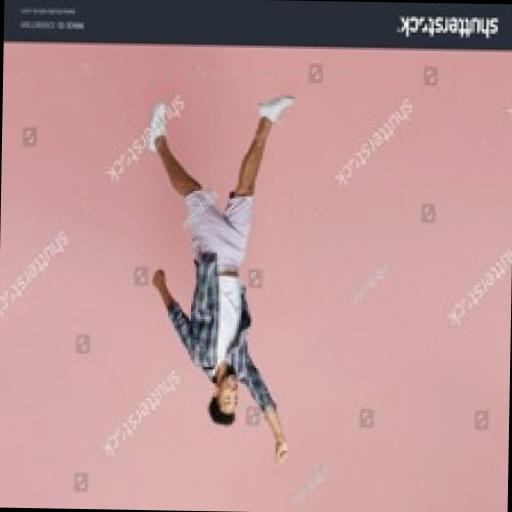human: (134, 88, 307, 477)
